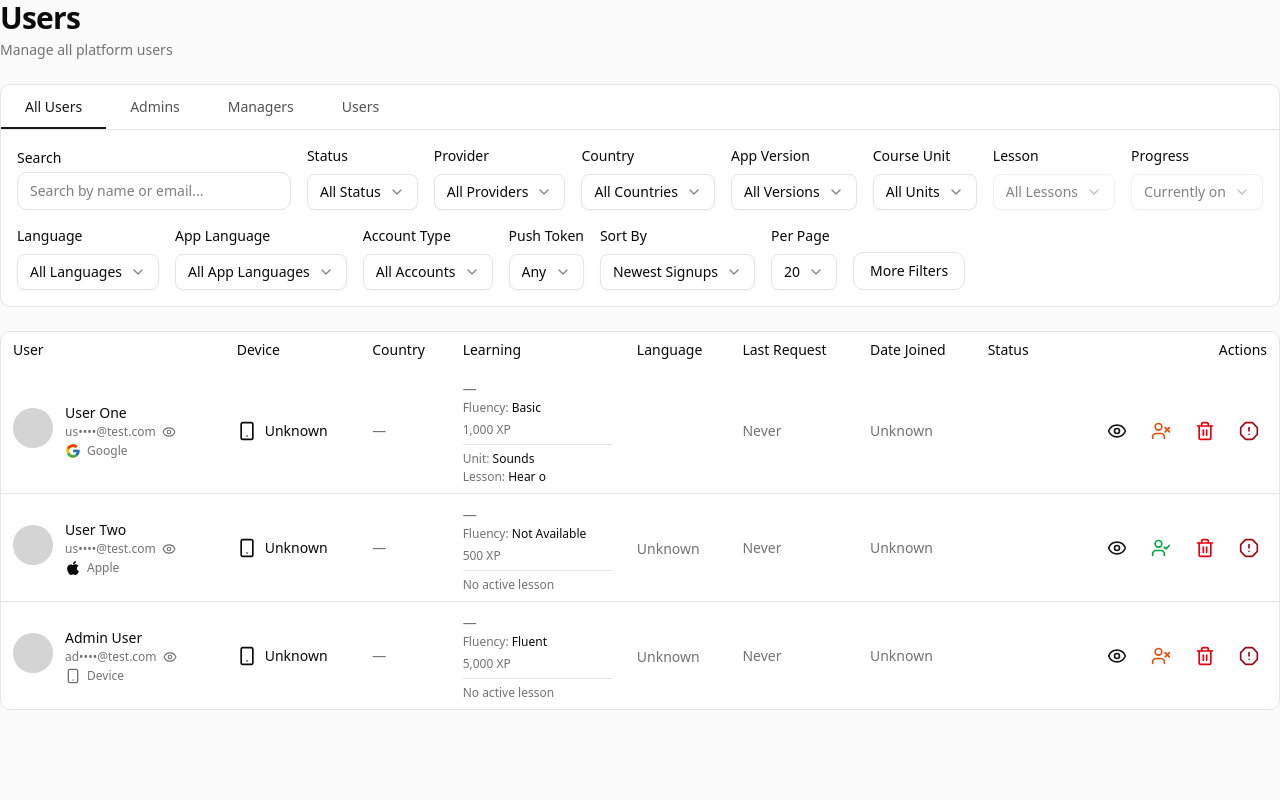
UsersPage › User Actions › opens confirmation modal on action click
The image size is (1280, 800).
Click the button named "Deactivate User One".
click(1161, 430)  # box [1143,412,1179,448]
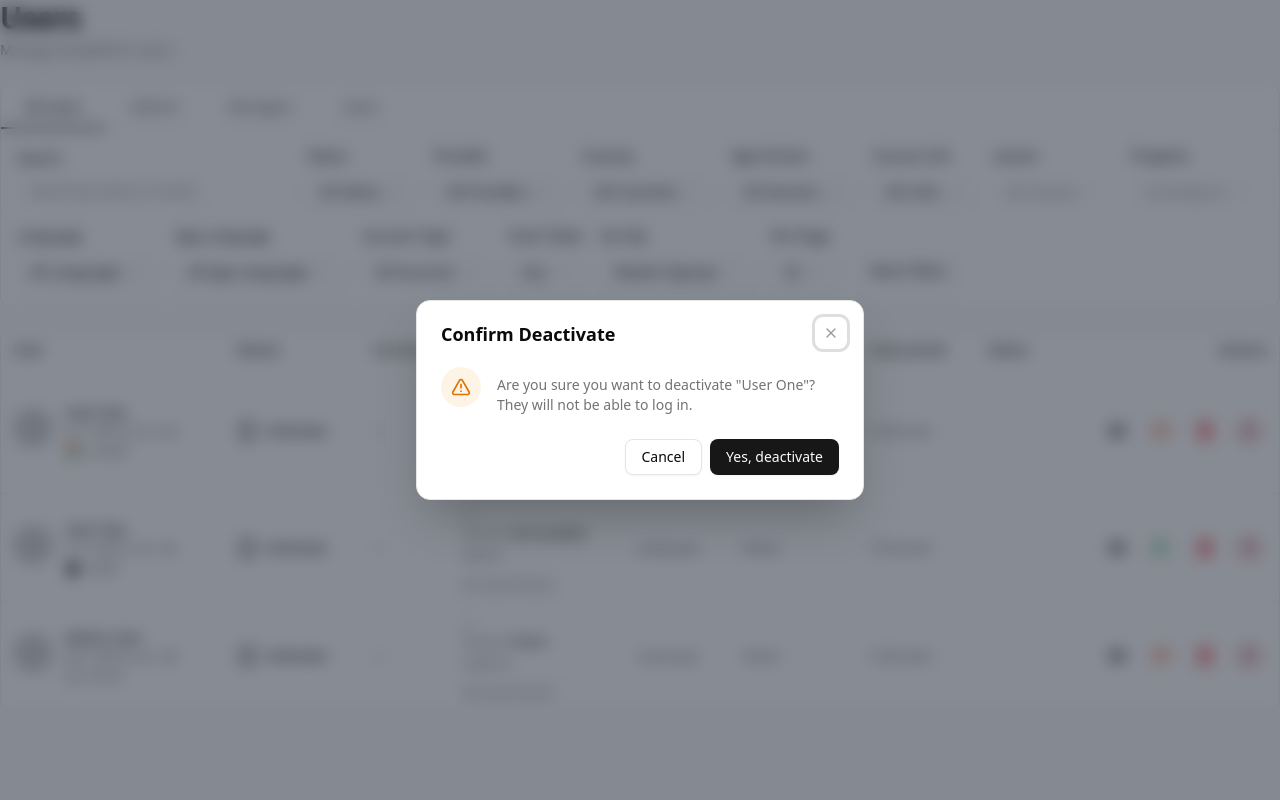
Check: the heading "Confirm Deactivate" is shown, box [441,322,615,346]
Check: the text "Are you sure" is shown, box [497,375,815,414]
